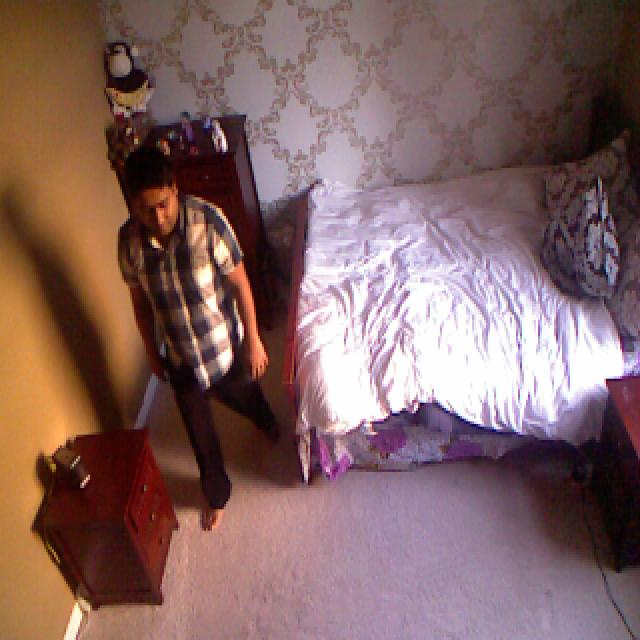standing: (107, 142, 293, 538)
